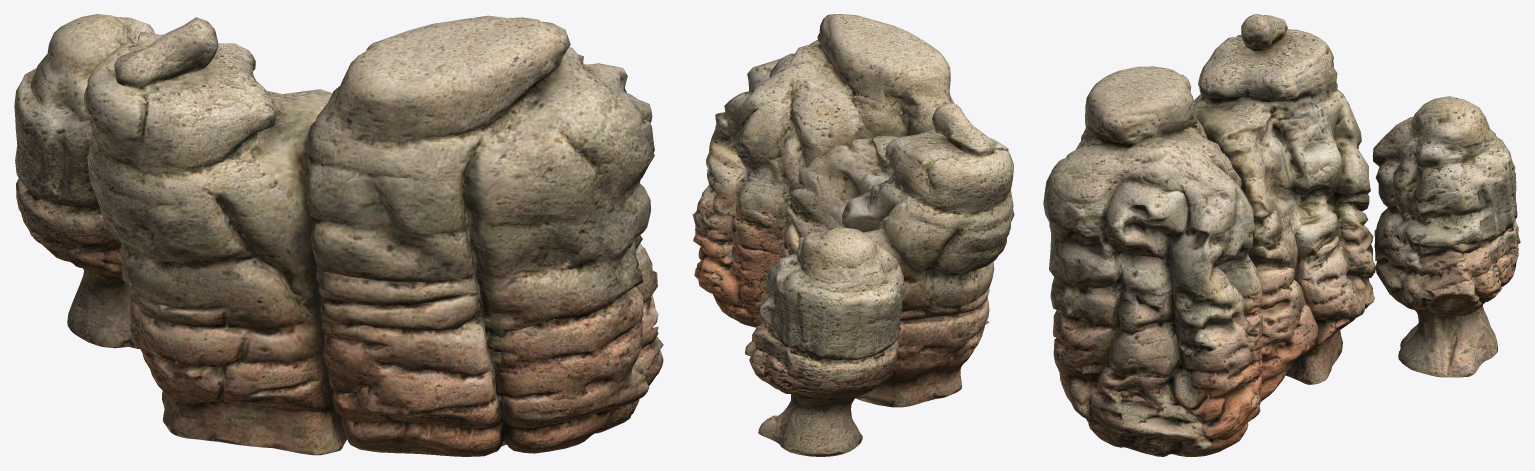
File: kelchsteine.glb
3 renders of one model, left to right at view 1: azimuth 30°, elevation 25°; view 2: azimuth 150°, elevation 25°; view 3: azimuth 270°, elevation 25°, orthographic. The views are drawn at different scales.
Parts seen in each view (by area): view 1: tripo_node_0b415ee0-07ac-47bc-9413-093b2e2b66ff; view 2: tripo_node_0b415ee0-07ac-47bc-9413-093b2e2b66ff; view 3: tripo_node_0b415ee0-07ac-47bc-9413-093b2e2b66ff.
Part boxes in pixels (bbox=[...]): tripo_node_0b415ee0-07ac-47bc-9413-093b2e2b66ff: bbox=[14, 14, 663, 456]; tripo_node_0b415ee0-07ac-47bc-9413-093b2e2b66ff: bbox=[692, 14, 1014, 456]; tripo_node_0b415ee0-07ac-47bc-9413-093b2e2b66ff: bbox=[1043, 14, 1520, 456].
Bounding box in the file's own units: 0.8932 × 0.7197 × 1.
1 material, 1 textured.
